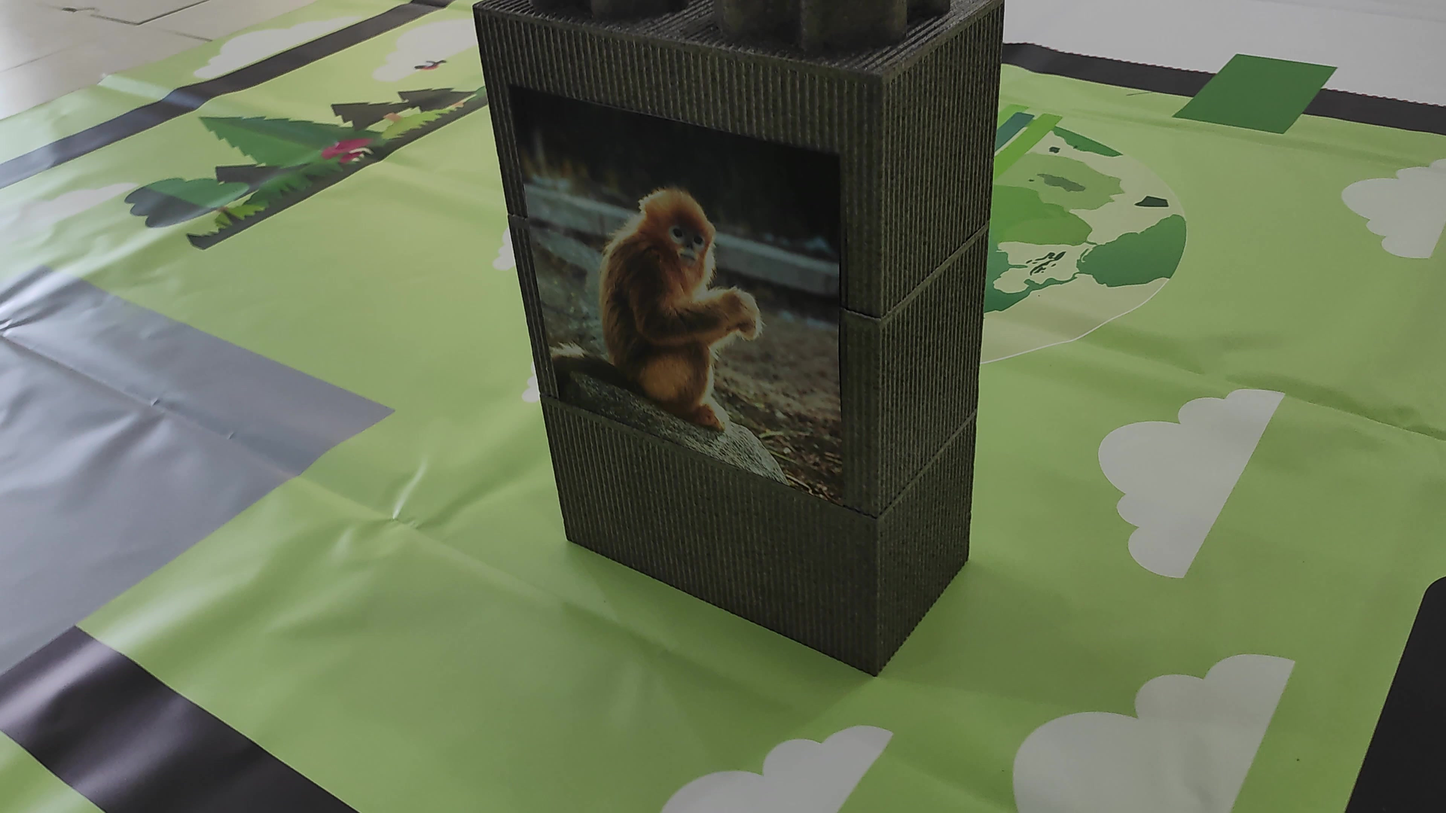monkey: (546, 143, 794, 441)
